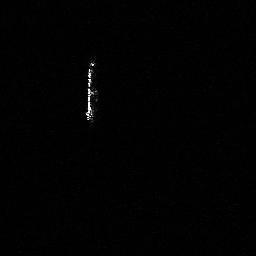ship: (79, 61, 105, 125)
